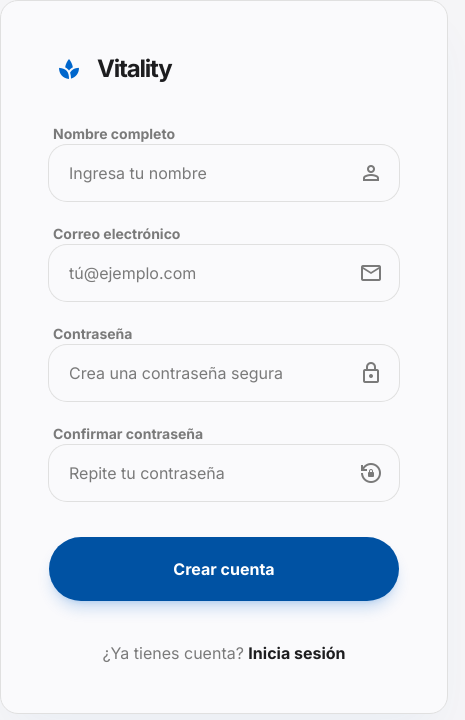
Scenario: RegistroForm › shows validation errors for empty fields
Click the button "Crear cuenta". click: (224, 569)
box: x1=49 y1=537 x2=399 y2=601
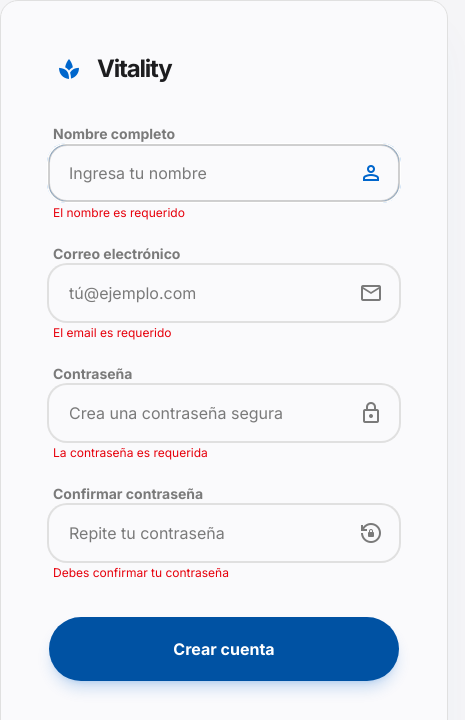
Expected: the text "El nombre es requerido" is shown, x1=53 y1=205 x2=185 y2=220
Expected: the text "El email es requerido" is shown, x1=53 y1=325 x2=172 y2=340
Expected: the text "La contraseña es requerida" is shown, x1=53 y1=445 x2=208 y2=460
